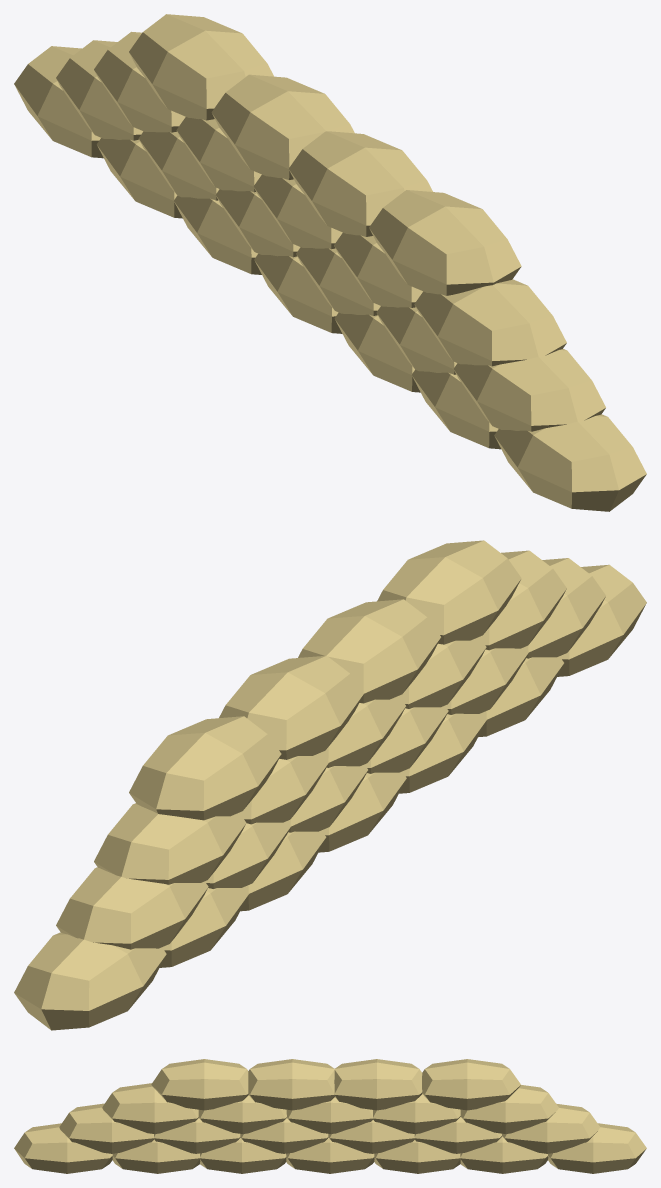
Rendered from Sandbagwall1.fbx.
The picture shows the model from 3 angles, top to bottom: view 1: azimuth 30°, elevation 25°; view 2: azimuth 150°, elevation 25°; view 3: azimuth 270°, elevation 25°; orthographic projection. The views are drawn at different scales.
Parts seen in each view (by area): view 1: Sandbag; view 2: Sandbag; view 3: Sandbag.
Part boxes in pixels (bbox=[...]): Sandbag: bbox=[14, 14, 646, 511]; Sandbag: bbox=[14, 540, 646, 1030]; Sandbag: bbox=[14, 1059, 646, 1173].
Size of the model in its own units: 81.74 by 145 by 772.
